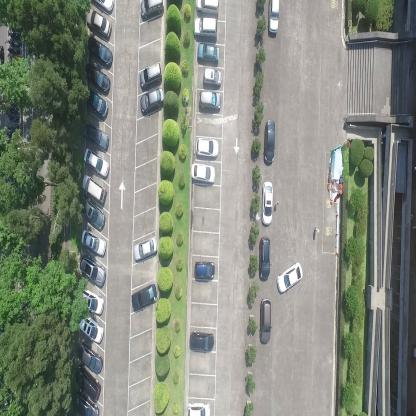car: (74, 365, 102, 402), (276, 261, 304, 295), (80, 194, 105, 231), (86, 35, 114, 68), (80, 255, 107, 289), (78, 312, 105, 346), (130, 280, 158, 312), (76, 341, 103, 374), (81, 173, 106, 208), (82, 148, 110, 178), (84, 9, 111, 40), (86, 62, 111, 95), (83, 122, 109, 152), (85, 87, 108, 120), (132, 234, 158, 263), (140, 86, 165, 116), (81, 228, 106, 257), (79, 287, 104, 315), (139, 63, 163, 91), (189, 330, 215, 355), (74, 390, 99, 415), (259, 296, 272, 344), (263, 118, 276, 165), (194, 15, 218, 40), (191, 161, 216, 185), (258, 234, 271, 280), (261, 181, 274, 226), (196, 135, 219, 160), (199, 89, 222, 112), (193, 260, 216, 282), (196, 43, 220, 64), (139, 0, 163, 20), (267, 0, 280, 33), (195, 0, 220, 17), (187, 400, 211, 416), (203, 66, 221, 87), (92, 0, 115, 15)
